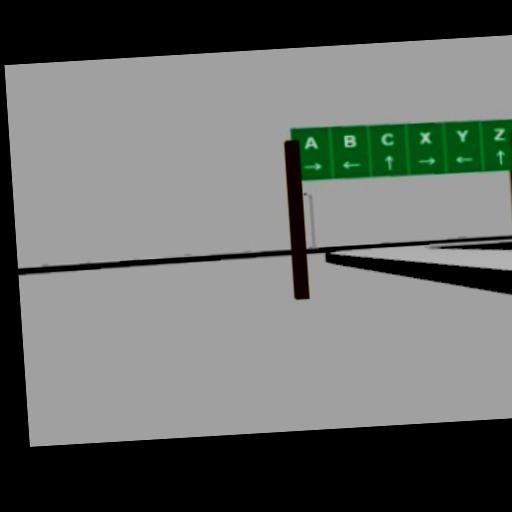A: (302, 134, 318, 150)
B: (343, 134, 357, 148)
C: (378, 131, 395, 147)
Left: (340, 159, 361, 169), (453, 155, 472, 164)
Right: (302, 162, 322, 171), (417, 157, 436, 166)
Straight: (383, 154, 395, 171), (495, 150, 506, 166)
X: (417, 131, 433, 144)
Y: (454, 128, 470, 142)
Z: (492, 126, 508, 142)
